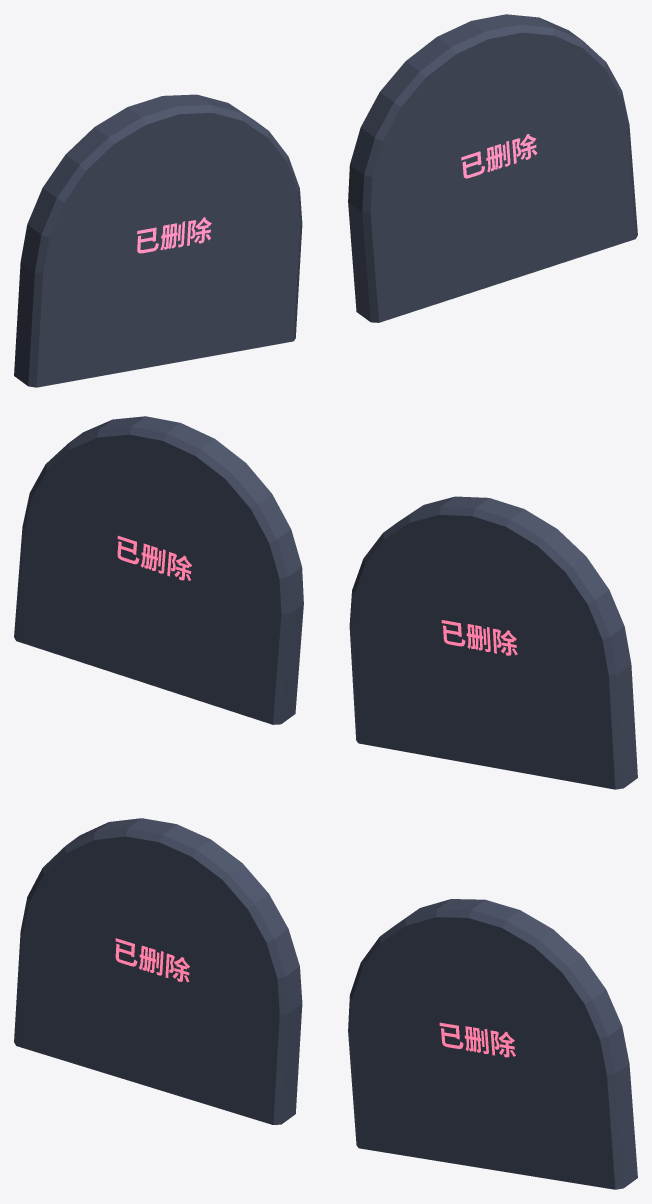
File: GraveLowPair.fbx
The picture shows the model from 3 angles, top to bottom: view 1: azimuth 30°, elevation 25°; view 2: azimuth 150°, elevation 25°; view 3: azimuth 330°, elevation 25°; orthographic projection.
Visible parts, largest first — view 1: KIT_GraveLowPair_Mesh; view 2: KIT_GraveLowPair_Mesh; view 3: KIT_GraveLowPair_Mesh.
Part boxes in pixels (<box>): KIT_GraveLowPair_Mesh: <box>14,14,637,387</box>; KIT_GraveLowPair_Mesh: <box>14,416,637,789</box>; KIT_GraveLowPair_Mesh: <box>14,818,637,1189</box>.
Size of the model in its own units: 3.46 by 1.43 by 0.212.
